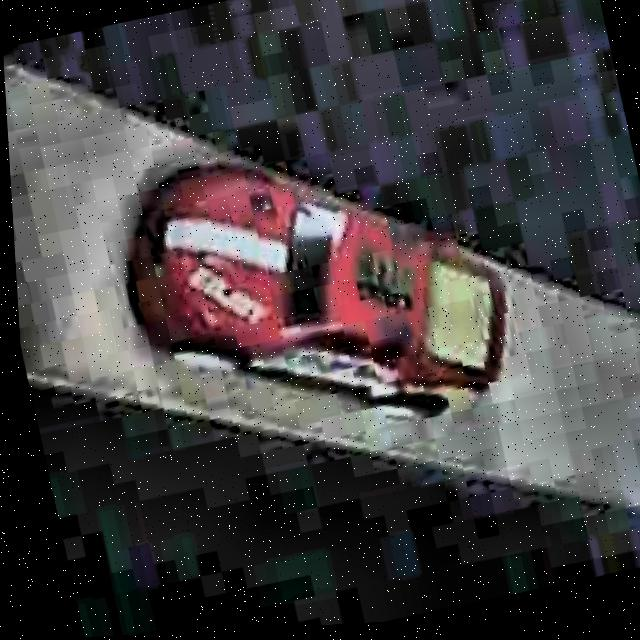car: (90, 100, 537, 480)
